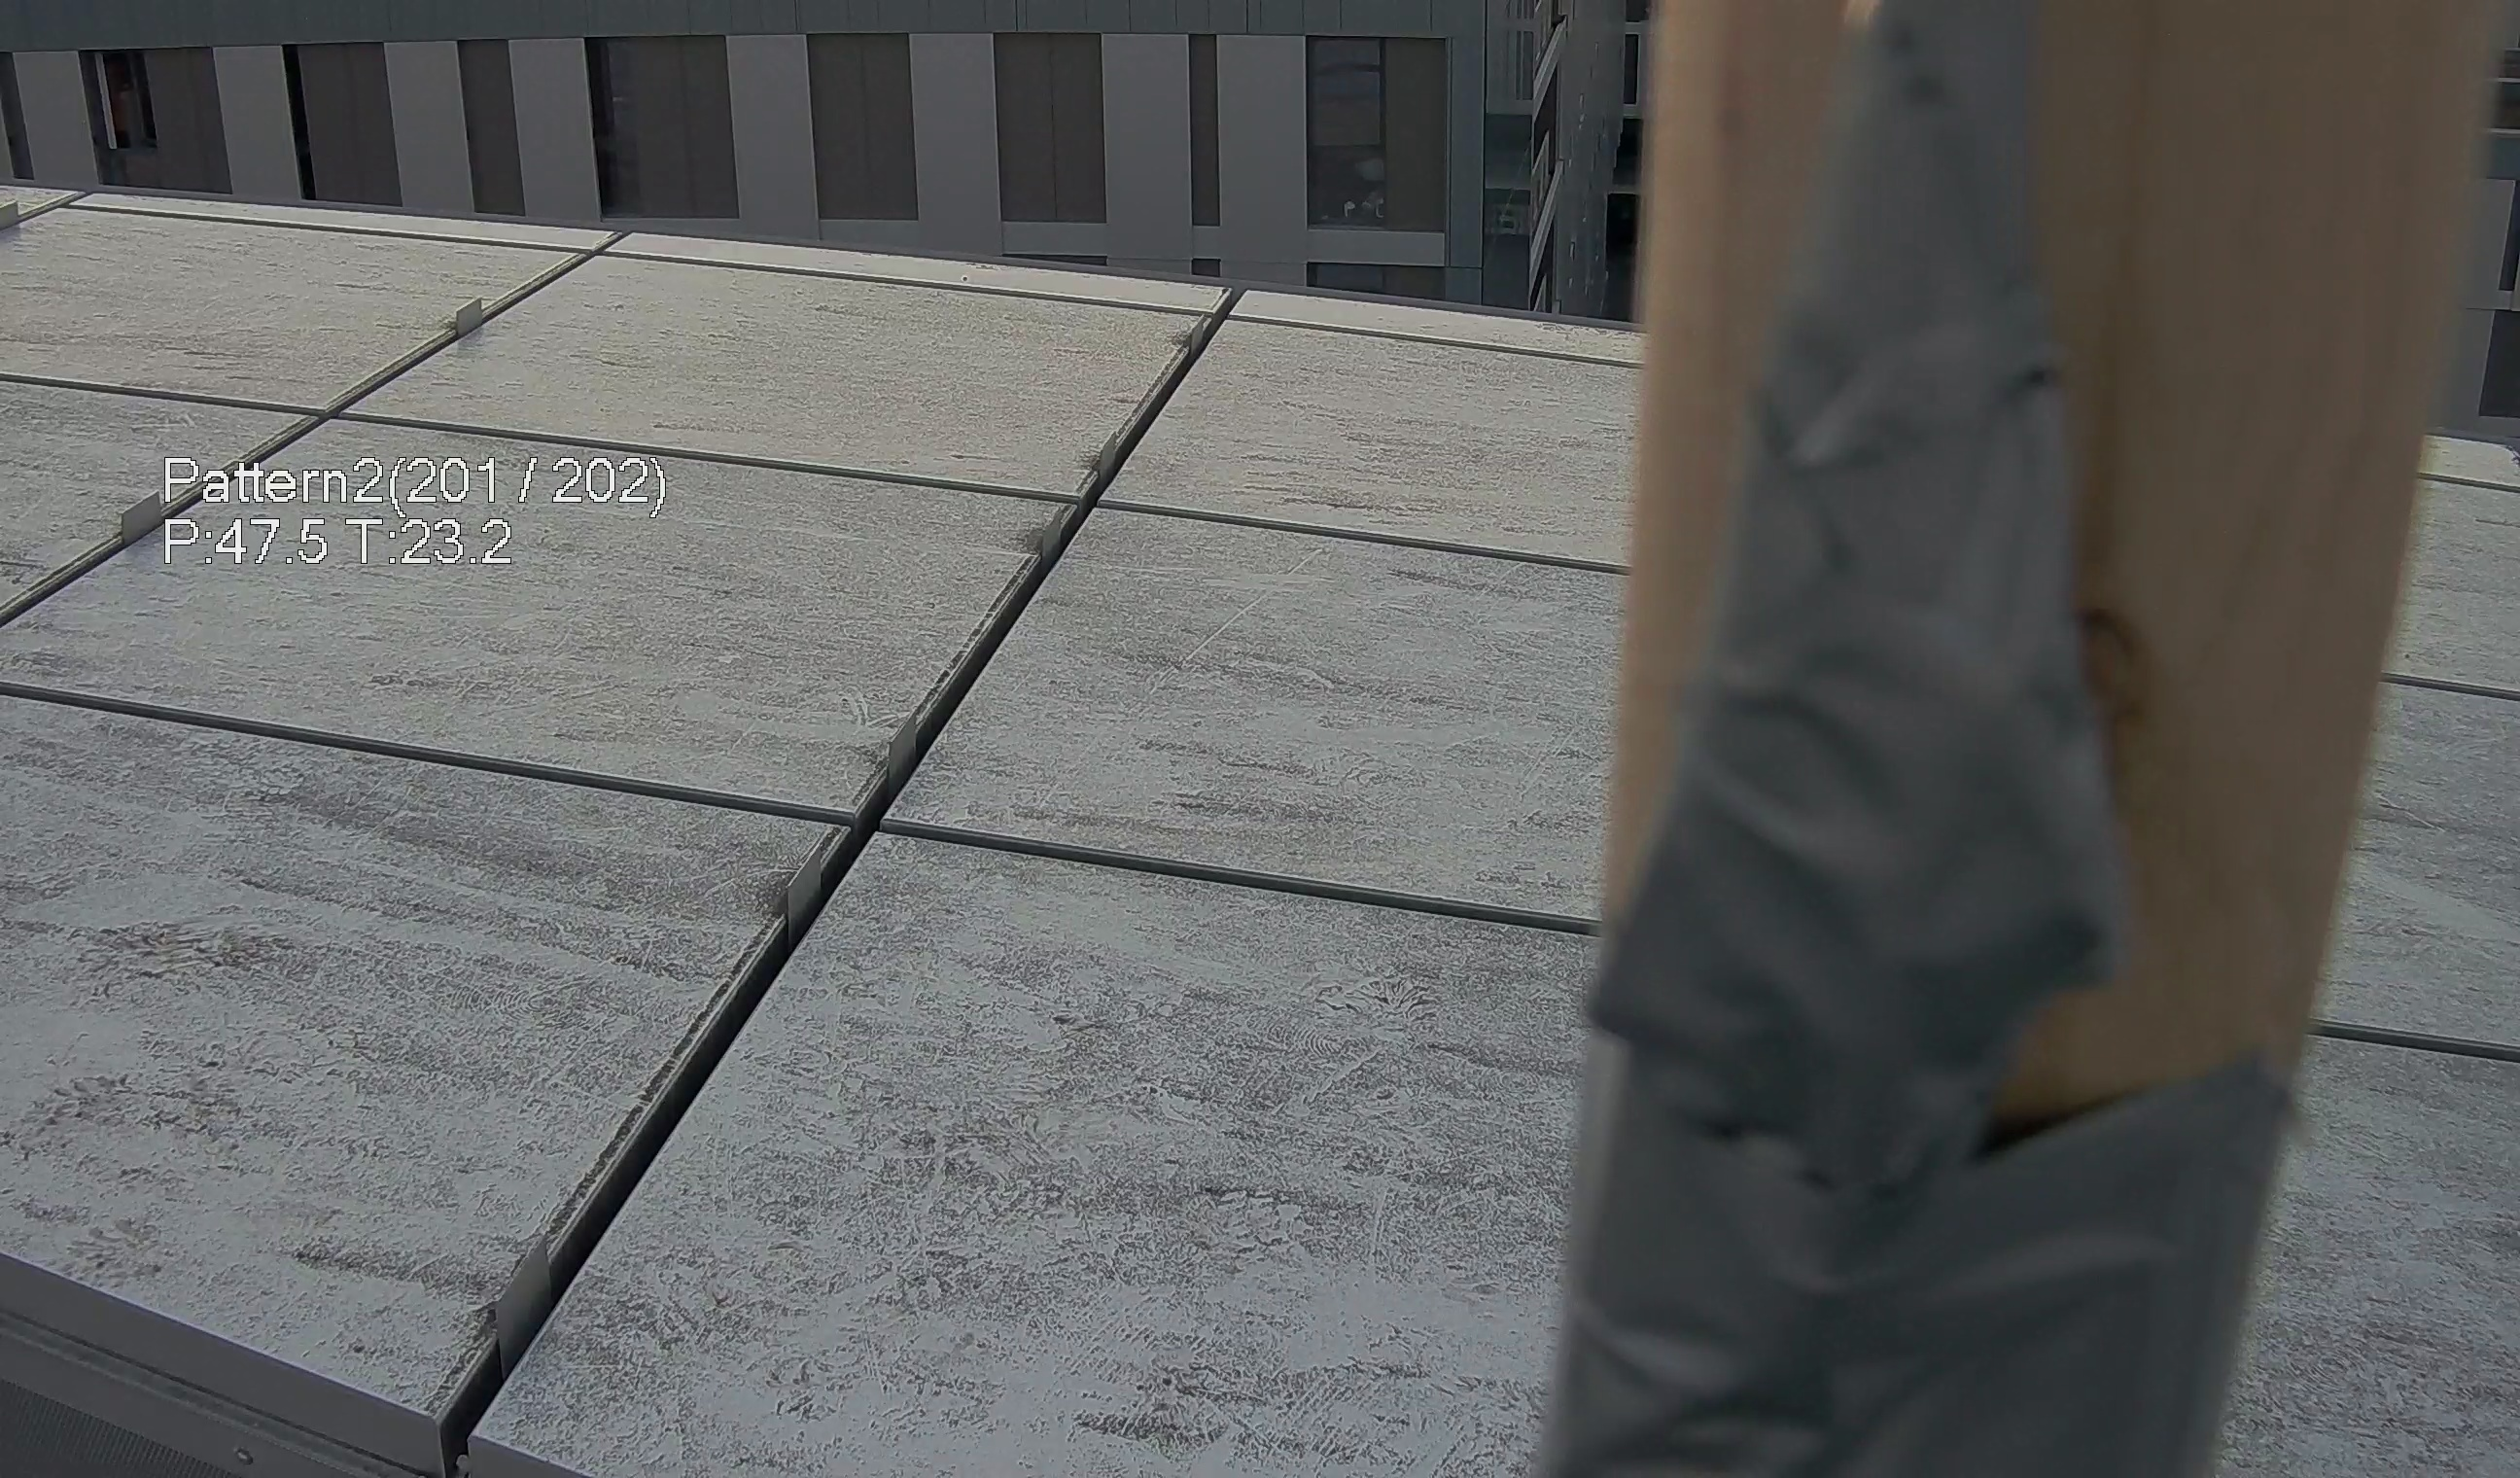Other: (1581, 0, 2439, 1478)
